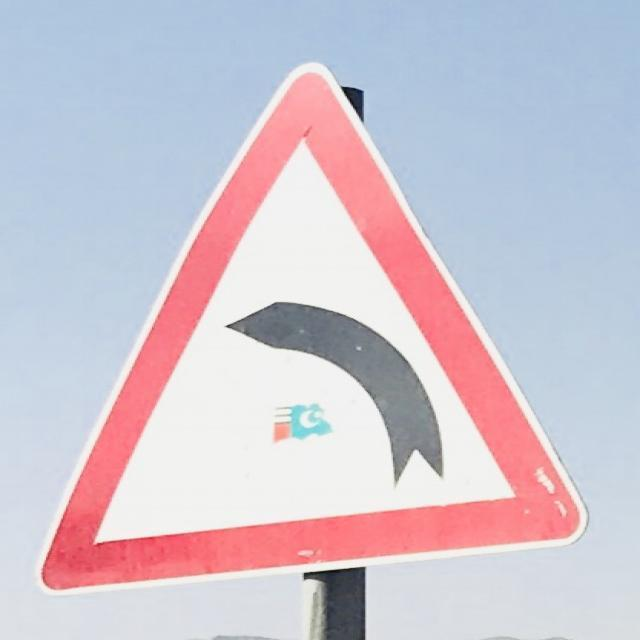left hand curve: (30, 62, 600, 593)
